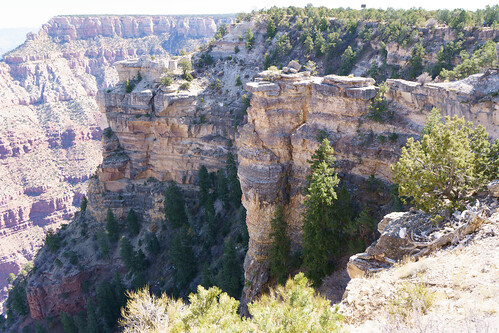tree: (379, 108, 499, 227), (291, 139, 355, 290)
vegetation: (250, 1, 478, 77)
